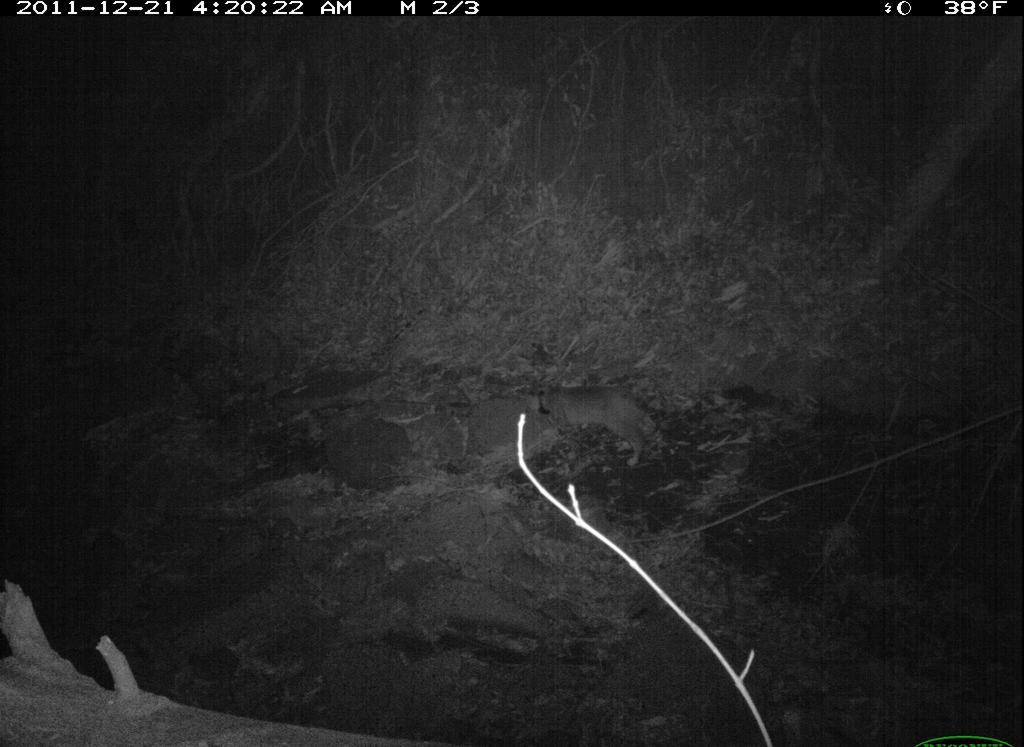bobcat: (520, 379, 673, 474)
